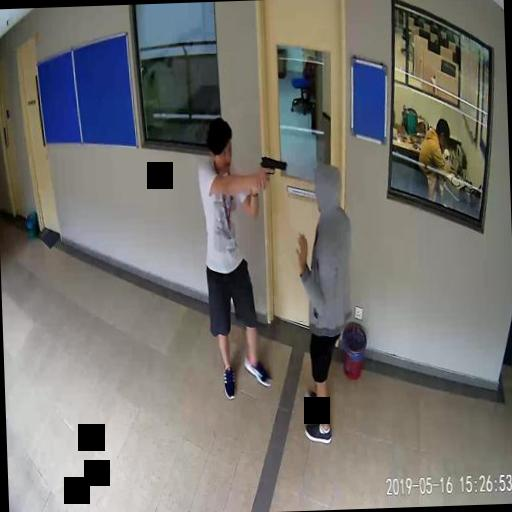Handgun: (258, 152, 286, 187)
